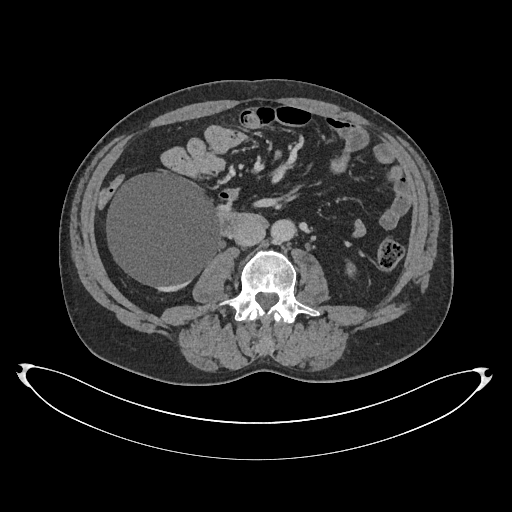Lesion: (105, 171, 220, 290)
